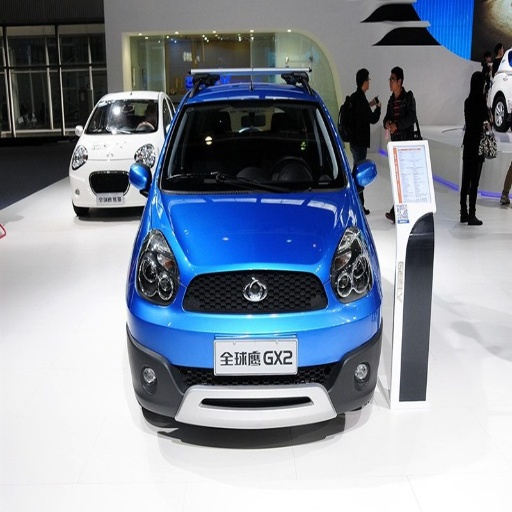front_bumper: (129, 264, 382, 430)
front_right_light: (136, 230, 175, 304)
hood: (156, 188, 352, 282)
